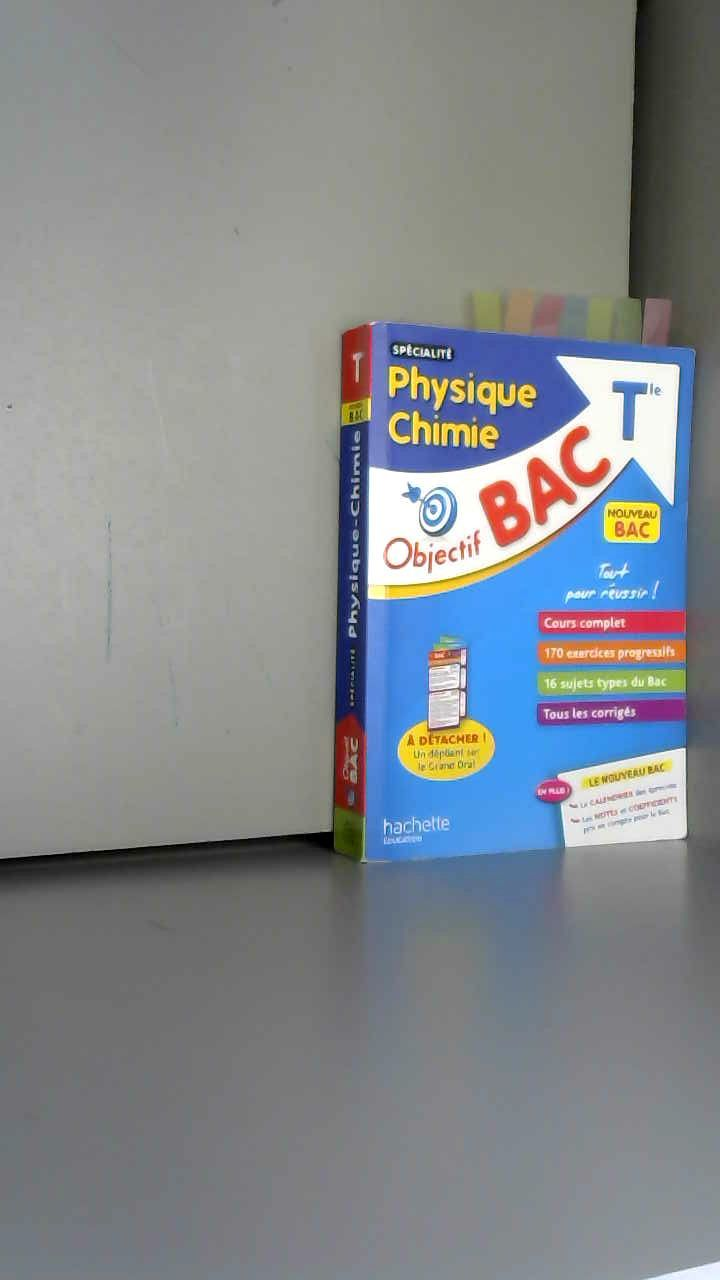book: (310, 300, 720, 914)
